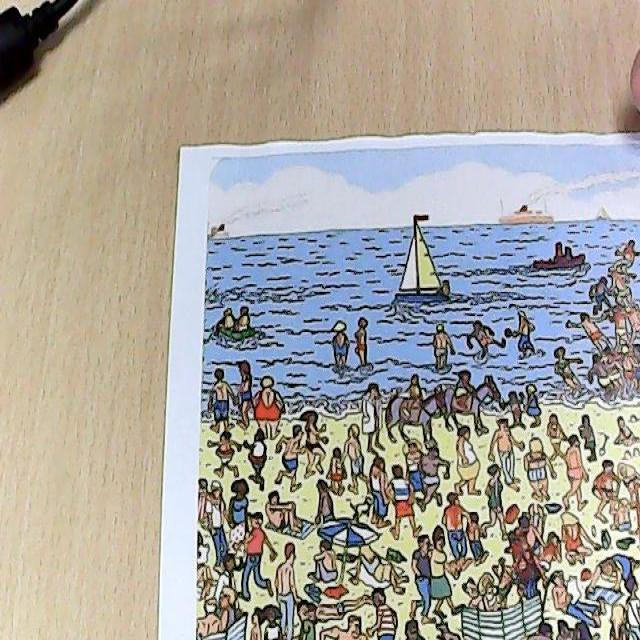waldo: (514, 527, 532, 558)
